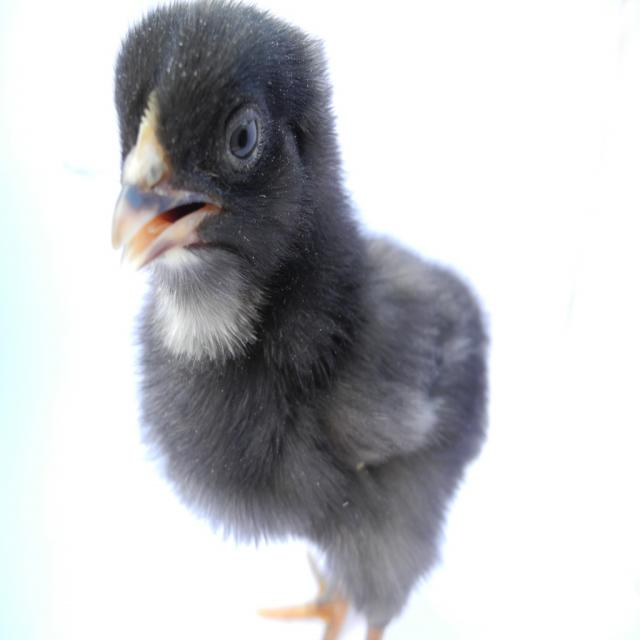Chicken: (107, 0, 487, 639)
